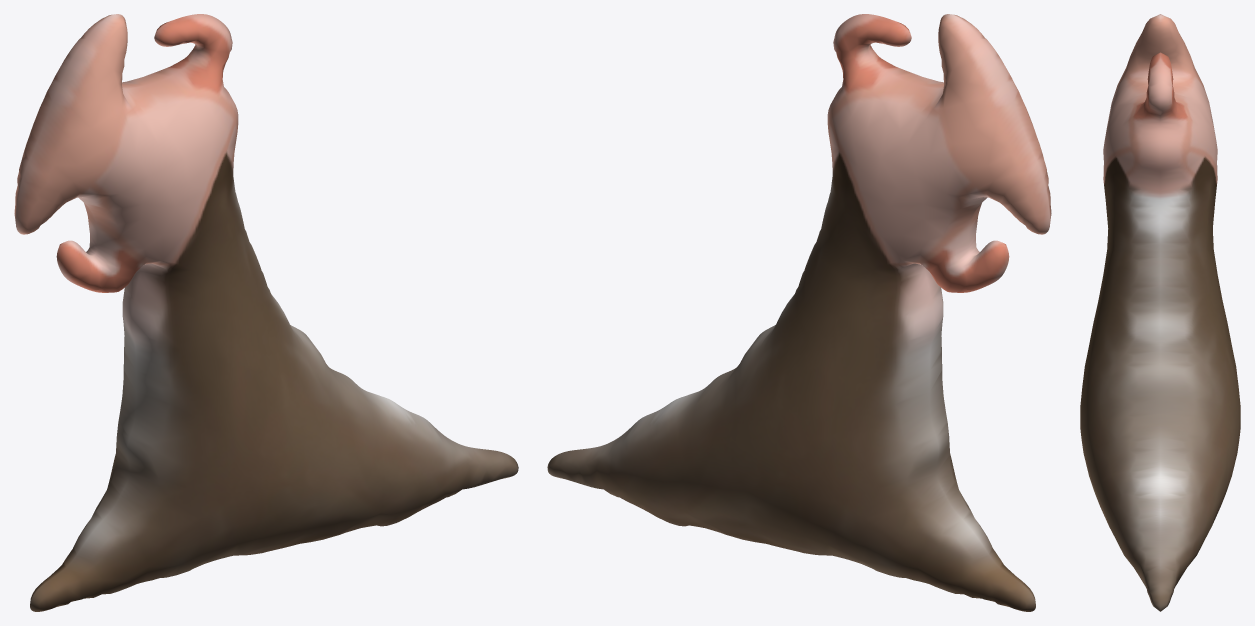
File: coffee.glb
3 renders of one model, left to right at view 1: azimuth 30°, elevation 25°; view 2: azimuth 150°, elevation 25°; view 3: azimuth 270°, elevation 25°, orthographic. The views are drawn at different scales.
Visible parts, largest first — view 1: Mesh_0.002; view 2: Mesh_0.002; view 3: Mesh_0.002.
Part boxes in pixels (bbox=[...]): Mesh_0.002: bbox=[14, 14, 518, 611]; Mesh_0.002: bbox=[547, 14, 1051, 611]; Mesh_0.002: bbox=[1080, 14, 1240, 611].
Bounding box in the file's own units: 196 × 216 × 68.57.
1 material, 1 textured.
